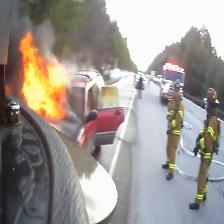fire: (18, 31, 66, 121)
